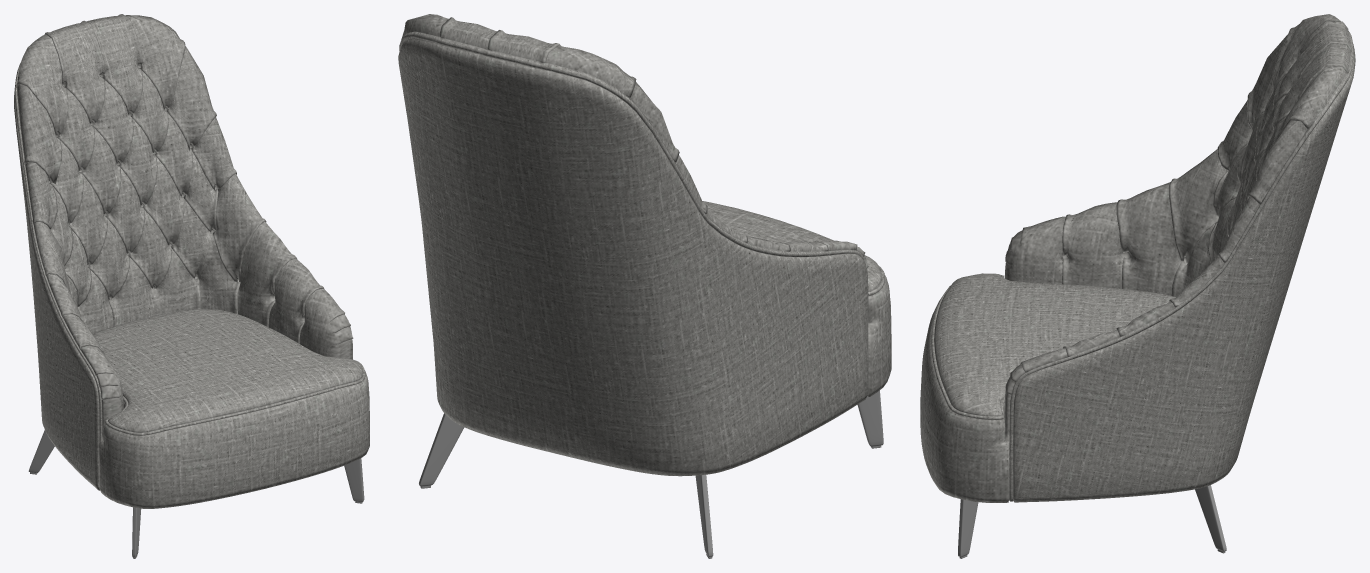
The model's file is armchair14.glb.
3 views of the same model, side by side, from view 1: azimuth 30°, elevation 25°; view 2: azimuth 150°, elevation 25°; view 3: azimuth 270°, elevation 25° (orthographic). The views are drawn at different scales.
Visible parts, largest first — view 1: Material-Pelle, Material-gambe_vanessa; view 2: Material-Pelle, Material-gambe_vanessa; view 3: Material-Pelle, Material-gambe_vanessa.
Part boxes in pixels (x1,y1,x2,y2): Material-Pelle: [14, 14, 369, 508]; Material-gambe_vanessa: [28, 430, 364, 558]; Material-Pelle: [398, 14, 891, 476]; Material-gambe_vanessa: [419, 390, 883, 558]; Material-Pelle: [920, 14, 1355, 502]; Material-gambe_vanessa: [958, 485, 1226, 558].
Size of the model in its own units: 0.6722 by 0.9712 by 0.8458.
2 materials, 1 textured.
